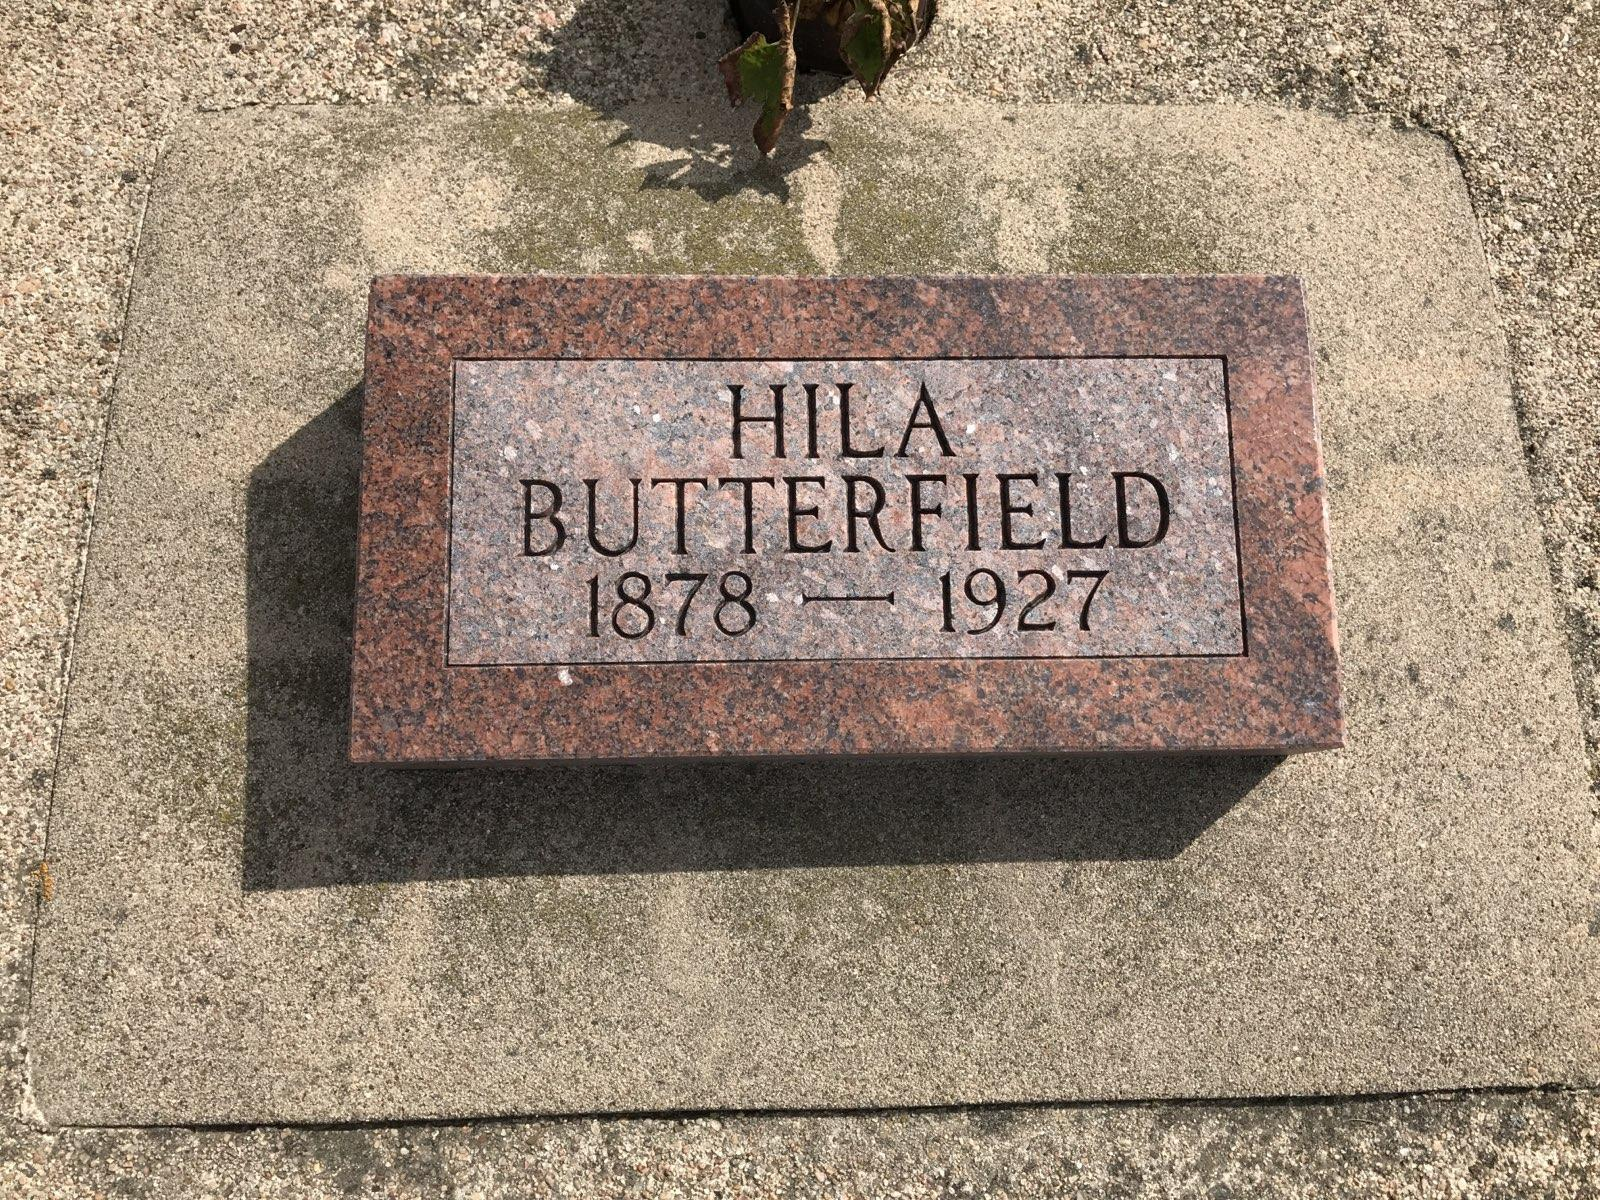flat: (346, 270, 1351, 769)
